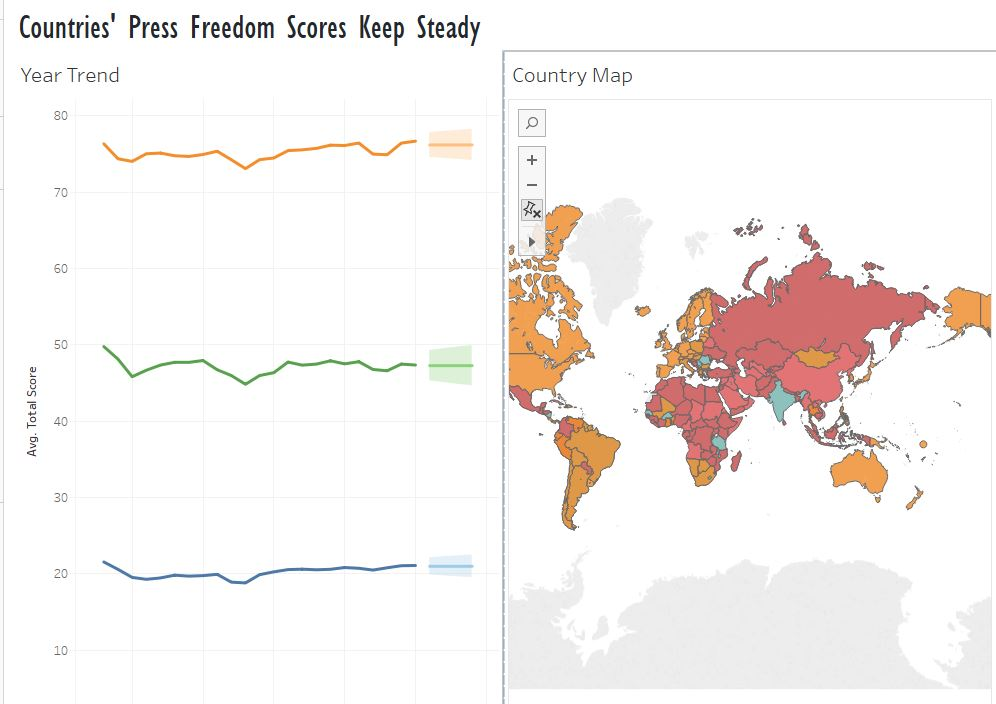

What the dashboard file says about the page in this screenshot:
{"tool":"tableau","page":{"name":"Dashboard 1","canvas":[1000,800],"ordinal":0},"visuals":[{"type":"title","box":[8,8,984,40]},{"type":"worksheet","title":"Sheet 2","mark":"Line","rows":["Total Score"],"cols":["Year Covered"],"box":[8,48,492,744]},{"type":"worksheet","title":"Sheet 1","mark":"Multipolygon","box":[500,48,492,744]}]}

Visuals, with their boxes on the page's 1000x800 design canvas (x1, y1, x2, y2). These are canvas units, not pixel positions in the 996x704 screenshot, which may show the page scaled, cropped or inside an application window:
title: {"x1": 8, "y1": 8, "x2": 992, "y2": 48}
"Sheet 2" worksheet (Line marks): {"x1": 8, "y1": 48, "x2": 500, "y2": 792}
"Sheet 1" worksheet (Multipolygon marks): {"x1": 500, "y1": 48, "x2": 992, "y2": 792}
